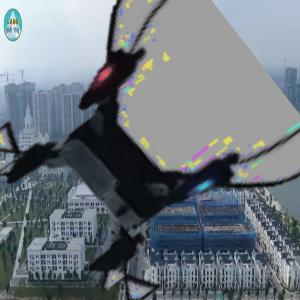drone: (1, 3, 287, 289)
